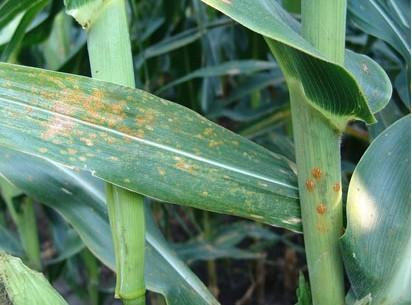Corn_Common_Rust: (194, 116, 306, 236), (2, 60, 100, 183), (98, 81, 195, 205), (304, 153, 351, 225), (71, 15, 100, 37), (356, 61, 379, 85)
